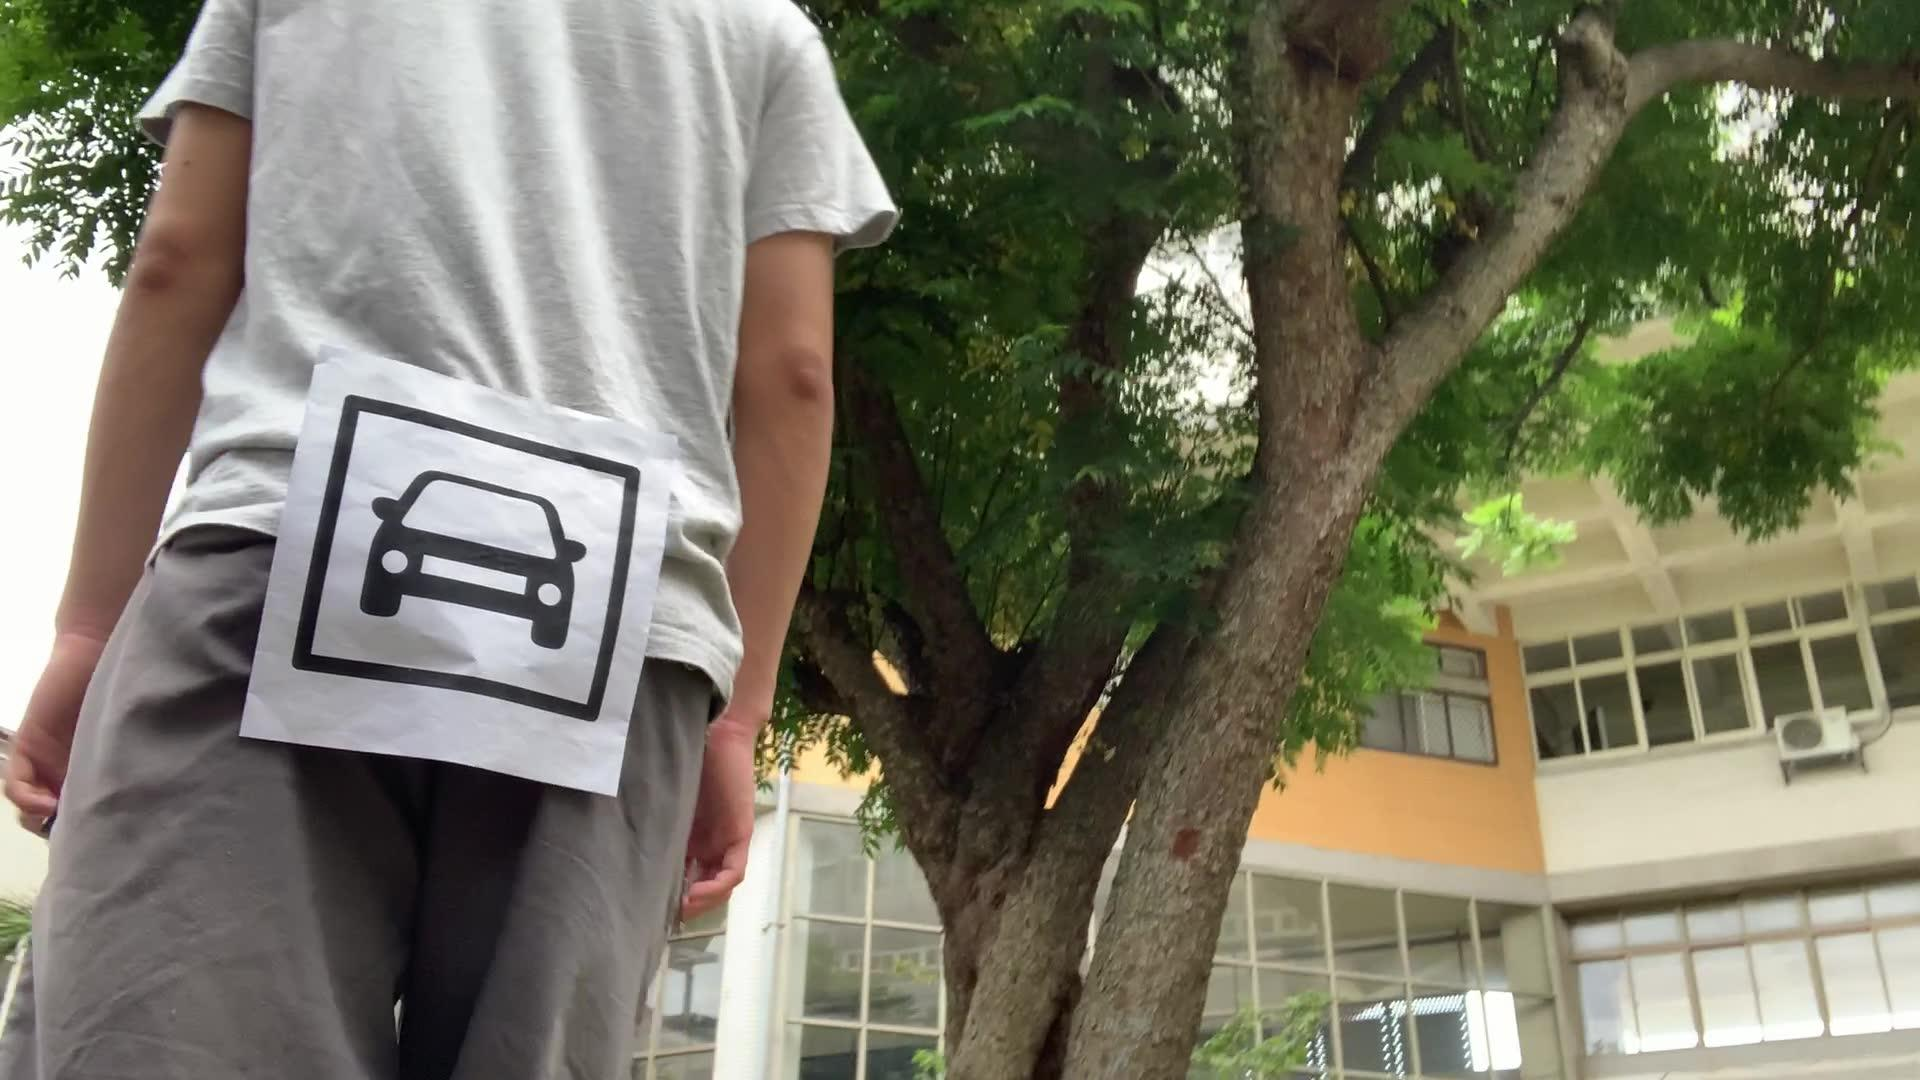car_img: (290, 392, 644, 724)
